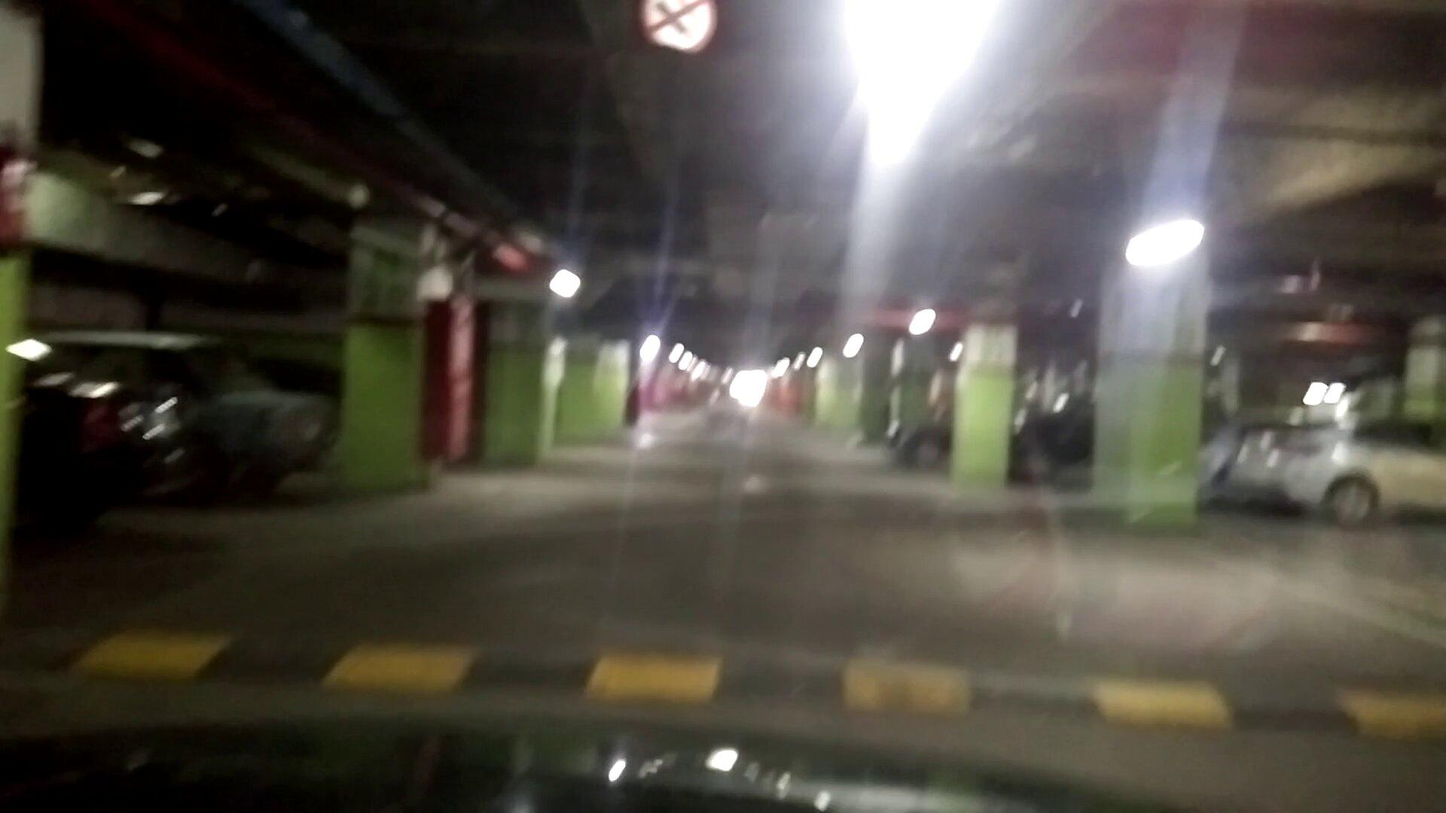Bump: (36, 606, 1446, 749)
